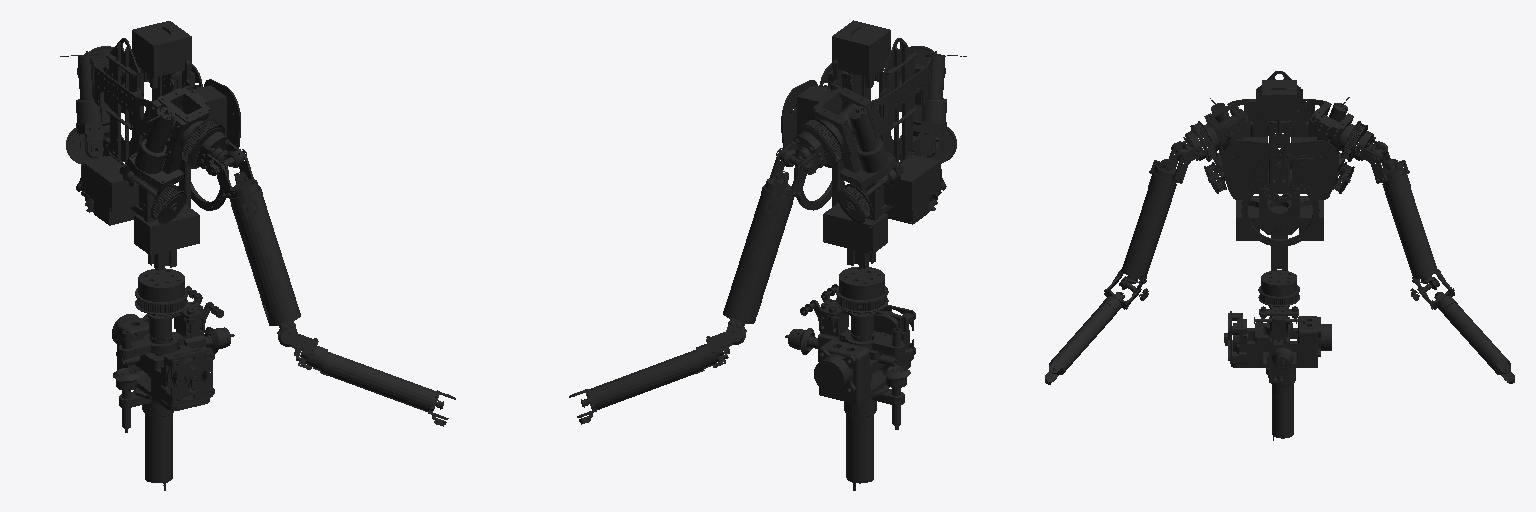
--- Render facts (derived) ---
The picture shows the robot from 3 angles, left to right: view 1: azimuth 30°, elevation 25°; view 2: azimuth 150°, elevation 25°; view 3: azimuth 270°, elevation 25°; orthographic projection.
Robot: ibuki_robot — 21 links, 20 joints (18 revolute, 2 fixed); root link base; default pose: every joint at zero.
Links seen in each view (by area): view 1: upper_body, hip_pitch, armr_yaw, hip_roll, wristr_yaw, hip_yaw, neck_pitch, shoulderr_pitch, armr_roll, armr_pitch, neck_roll; view 2: upper_body, hip_pitch, arml_yaw, hip_roll, wristl_yaw, hip_yaw, neck_pitch, shoulderl_pitch, arml_roll, arml_pitch, neck_roll; view 3: upper_body, hip_pitch, arml_yaw, armr_yaw, hip_roll, wristl_yaw, wristr_yaw, hip_yaw, neck_pitch, arml_roll, armr_roll, arml_pitch (+3 smaller).
Boxes of the visible links, box(x1,y1,x2,y2) form: upper_body: box(60, 26, 240, 270); hip_pitch: box(112, 314, 234, 490); armr_yaw: box(231, 197, 300, 342); hip_roll: box(113, 286, 223, 432); wristr_yaw: box(320, 352, 455, 426); hip_yaw: box(135, 268, 188, 315); neck_pitch: box(132, 21, 191, 61); shoulderr_pitch: box(196, 132, 246, 175); armr_roll: box(217, 154, 262, 205); armr_pitch: box(277, 331, 327, 370); neck_roll: box(132, 46, 191, 77); upper_body: box(781, 26, 966, 268); hip_pitch: box(785, 305, 915, 490); arml_yaw: box(723, 196, 792, 340); hip_roll: box(800, 284, 910, 429); wristl_yaw: box(569, 350, 704, 424); hip_yaw: box(835, 267, 888, 313); neck_pitch: box(832, 20, 890, 61); shoulderl_pitch: box(776, 131, 826, 174); arml_roll: box(761, 153, 806, 204); arml_pitch: box(696, 329, 746, 368); neck_roll: box(832, 46, 890, 77); upper_body: box(1190, 71, 1367, 270); hip_pitch: box(1224, 311, 1331, 440); arml_yaw: box(1382, 178, 1445, 295); armr_yaw: box(1113, 178, 1176, 295); hip_roll: box(1254, 306, 1304, 382); wristl_yaw: box(1444, 303, 1514, 383); wristr_yaw: box(1045, 303, 1114, 384); hip_yaw: box(1258, 270, 1299, 306); neck_pitch: box(1262, 80, 1296, 106); arml_roll: box(1371, 149, 1409, 185); armr_roll: box(1149, 149, 1188, 185); arml_pitch: box(1410, 275, 1457, 313).
Size in the robot's own frame: 0.2787 by 0.6864 by 0.5738 metres.
14 mesh visuals loaded from 19 distinct referenced files (14 binary STL); not drawn: 5 (reference not matched to a file when rendering).

The robot description file, URDF, robot "ibuki_robot":
<?xml version="1.0" ?>
<robot name="ibuki_robot">

<link name="base">
	<inertial>
		<origin xyz="0 0 0" />
		<mass value="10.0"/>
		<inertia ixx="0.12202839"  ixy="-0.0020812626"  ixz="-0.00088143449" iyx="-0.0020812626" iyy="0.038088441" iyz="0.0018251448" izx="-0.00088143449" izy="0.0018251448" izz="0.11340830" />
	</inertial>
	<visual>
		<origin xyz="-0.02 0 -0.17" rpy="0 0 0" />
		<geometry>
			<!--box size="0.5 0.5 0.6"/-->
			<mesh filename="package://ibuki_description/meshes/lower_body.stl"  scale="1 1 1"/>
		</geometry>
		<material name="FlatBlack">
			<color rgba="0.20 0.20 0.20 1.0"/>
		</material>
	</visual>
    <collision>
      <geometry>
      	<box size="0.58 0.47 0.33"/>
<!--         <mesh filename="package://ibuki_description/meshes/lower_body.stl"  scale="1 1 1"/> -->
      </geometry>
    </collision>

	<gazebo reference="body">
  		<material>Gazebo/FlatBlack</material>
	</gazebo>
</link>

<link name="lower_body">
	<inertial>
		<origin xyz="0 0 0" />
		<mass value="10.0"/>
		<inertia ixx="0.12202839"  ixy="-0.0020812626"  ixz="-0.00088143449" iyx="-0.0020812626" iyy="0.038088441" iyz="0.0018251448" izx="-0.00088143449" izy="0.0018251448" izz="0.11340830" />
	</inertial>
	<visual>
		<origin xyz="-0.02 0 -0.25" rpy="0 0 0" />
		<geometry>
			<!--box size="0.5 0.5 0.6"/-->
			<mesh filename="package://ibuki_description/meshes/linear.stl"  scale="1 1 1"/>
		</geometry>
		<material name="Grey">
			<color rgba="0.20 0.20 0.20 1.0"/>
		</material>
	</visual>
    <collision>
      <geometry>
      	<box size="0.26 0.24 0.56"/>
<!--         <mesh filename="package://ibuki_description/meshes/lower_body.stl"  scale="1 1 1"/> -->
      </geometry>
    </collision>
</link>

<link name="hip_pitch">
	<inertial>
		<origin xyz="0 0 0"/>
		<mass value="4.1"/>
		<inertia ixx="0.086855267"  ixy="0.0053020311"  ixz="0.00043636051" iyx="0.0053020311" iyy="0.021192085" iyz="-0.0064855932" izx="0.00043636051" izy="-0.0064855932" izz="0.086845450" />
	</inertial>

	<visual>
		<origin xyz="0 0.0 -0.05" rpy="0 0 0" />
		<geometry>
<!-- 			<box size="0.3 0.3 0.1" /> -->
			<mesh filename="package://ibuki_description/meshes/hip_p.stl"  scale="0.1 0.1 0.1"/>
		</geometry>
		<material name="Grey">
			<color rbga="0.20 0.20 0.20 1.0" />
		</material>
	</visual>
    <collision>
      <origin xyz="-0.05 0 0" rpy="0 0 0" />
      <geometry>
        <box size="0.15 0.15 0.05" />
      </geometry>
    </collision>
</link>

<link name="hip_roll">
	<inertial>
		<origin xyz="0 0 0"/>
		<mass value="4.1"/>
		<inertia ixx="0.086855267"  ixy="0.0053020311"  ixz="0.00043636051" iyx="0.0053020311" iyy="0.021192085" iyz="-0.0064855932" izx="0.00043636051" izy="-0.0064855932" izz="0.086845450" />
	</inertial>

	<visual>
		<origin xyz="0 0.0 -0.015" rpy="0 0 0" />
		<geometry>
			<!-- <box size="0.28 0.28 0.1" /> -->
			<mesh filename="package://ibuki_description/meshes/hip_r.stl"  scale="0.1 0.1 0.1"/>
		</geometry>
		<material name="Grey">
			<color rbga="0.20 0.20 0.20 1.0" />
		</material>
	</visual>
    <collision>
      <origin xyz="-0.05 0 0" rpy="0 0 0" />
      <geometry>
        <box size="0.1 0.1 0.1" />
      </geometry>
    </collision>
</link>

<link name="hip_yaw">
	<inertial>
		<origin xyz="0 0 0"/>
		<mass value="0.5"/>
		<inertia ixx="0.086855267"  ixy="0.0053020311"  ixz="0.00043636051" iyx="0.0053020311" iyy="0.021192085" iyz="-0.0064855932" izx="0.00043636051" izy="-0.0064855932" izz="0.086845450" />
	</inertial>

	<visual>
		<origin xyz="0 0.0 0.05" rpy="0 0 0" />
		<geometry>
<!-- 			<box size="0.2 0.2 0.3" /> -->
			<mesh filename="package://ibuki_description/meshes/hip_y.stl"  scale="0.1 0.1 0.1"/>
		</geometry>
		<material name="Grey">
			<color rbga="0.20 0.20 0.20 1.0" />
		</material>
	</visual>
    <collision>
      <origin xyz="0 0 0" rpy="0 0 0" />
      <geometry>
        <box size="0.05 0.05 0.05" />
      </geometry>
    </collision>
</link>


<link name="upper_body">
	<inertial>
		<origin xyz="0 0 0"/>
		<mass value="0.5"/>
		<inertia ixx="0.086855267"  ixy="0.0053020311"  ixz="0.00043636051" iyx="0.0053020311" iyy="0.021192085" iyz="-0.0064855932" izx="0.00043636051" izy="-0.0064855932" izz="0.086845450" />
	</inertial>

	<visual>
		<origin xyz="0 0.0 0" rpy="0 0 0" />
		<geometry>
<!-- 			<box size="0.2 0.2 0.3" /> -->
			<mesh filename="package://ibuki_description/meshes/upper_body.stl"  scale="0.1 0.1 0.1"/>
		</geometry>
		<material name="Grey">
			<color rbga="0.20 0.20 0.20 1.0" />
		</material>
	</visual>
    <collision>
      <origin xyz="-0.05 0 0.15" rpy="0 0 0" />
      <geometry>
        <box size="0.15 0.15 0.24" />
      </geometry>
    </collision>
</link>


<link name="neck_roll">
	<inertial>
		<origin xyz="0 0 0"/>
		<mass value="0.1"/>
		<inertia ixx="0.086855267"  ixy="0.0053020311"  ixz="0.00043636051" iyx="0.0053020311" iyy="0.021192085" iyz="-0.0064855932" izx="0.00043636051" izy="-0.0064855932" izz="0.086845450" />
	</inertial>

	<visual>
		<origin xyz="0 0.0 0.03" rpy="0 0 0" />
		<geometry>
			<box size="0.05 0.05 0.02" />
		</geometry>
		<material name="Grey">
			<color rbga="0.20 0.20 0.20 1.0" />
		</material>
	</visual>
    <collision>
      <origin xyz="-0.05 0 0" rpy="0 0 0" />
      <geometry>
        <box size="0.1 0.1 0.1" />
      </geometry>
    </collision>
</link>

<link name="neck_pitch">
	<inertial>
		<origin xyz="0 0 0"/>
		<mass value="0.1"/>
		<inertia ixx="0.086855267"  ixy="0.0053020311"  ixz="0.00043636051" iyx="0.0053020311" iyy="0.021192085" iyz="-0.0064855932" izx="0.00043636051" izy="-0.0064855932" izz="0.086845450" />
	</inertial>

	<visual>
		<origin xyz="0 0.0 0.05" rpy="0 0 0" />
		<geometry>
			<box size="0.05 0.05 0.02" />			
		</geometry>
		<material name="Grey">
			<color rbga="0.20 0.20 0.20 1.0" />
		</material>
	</visual>
    <collision>
      <origin xyz="-0.05 0 0" rpy="0 0 0" />
      <geometry>
        <box size="0.1 0.1 0.1" />
      </geometry>
    </collision>
</link>

<link name="head">
	<inertial>
		<origin xyz="0 0 0.2"/>
		<mass value="0.1"/>
		<inertia ixx="0.086855267"  ixy="0.0053020311"  ixz="0.00043636051" iyx="0.0053020311" iyy="0.021192085" iyz="-0.0064855932" izx="0.00043636051" izy="-0.0064855932" izz="0.086845450" />
	</inertial>

	<visual>
		<origin xyz="0 0.0 0" rpy="0 0 0" />
		<geometry>
			<!-- <box size="0.15 0.15 0.15" /> -->
			<mesh filename="package://ibuki_description/meshes/head.dae"  scale="0.1 0.1 0.1"/>
		</geometry>
<!-- 		<material name="Grey">
			<color rbga="0.20 0.20 0.20 1.0" />
		</material> -->
	</visual>
    <collision>
      <origin xyz="-0.05 0 0" rpy="0 0 0" />
      <geometry>
        <box size="0.15 0.15 0.15" />
      </geometry>
    </collision>
</link>

<link name="shoulderl_pitch">
	<inertial>
		<origin xyz="0 0 0"/>
		<mass value="0.1"/>
		<inertia ixx="0.086855267"  ixy="0.0053020311"  ixz="0.00043636051" iyx="0.0053020311" iyy="0.021192085" iyz="-0.0064855932" izx="0.00043636051" izy="-0.0064855932" izz="0.086845450" />
	</inertial>

	<visual>
		<origin xyz="0 0.0 0.0" rpy="0 0 0" />
		<geometry>
			<!-- <box size="0.25 0.1 0.25" /> -->
			<mesh filename="package://ibuki_description/meshes/shoulderl_pitch_flat.stl"  scale="0.1 0.1 0.1"/>
		</geometry>
		<material name="Grey">
			<color rbga="0.20 0.20 0.20 1.0" />
		</material>
	</visual>
    <collision>
      <origin xyz="0 -0.05 0" rpy="0 0 0" />
      <geometry>
        <box size="0.5 0.5 0.5" />
      </geometry>
    </collision>
</link>

<link name="shoulderr_pitch">
	<inertial>
		<origin xyz="0 0 0"/>
		<mass value="0.1"/>
		<inertia ixx="0.086855267"  ixy="0.0053020311"  ixz="0.00043636051" iyx="0.0053020311" iyy="0.021192085" iyz="-0.0064855932" izx="0.00043636051" izy="-0.0064855932" izz="0.086845450" />
	</inertial>

	<visual>
		<origin xyz="0 0.0 0.0" rpy="0 0 0" />
		<geometry>
<!-- 			<box size="0.25 0.1 0.25" /> -->
			<mesh filename="package://ibuki_description/meshes/shoulderr_pitch_flat.stl"  scale="0.1 0.1 0.1"/>
		</geometry>
		<material name="Grey">
			<color rbga="0.20 0.20 0.20 1.0" />
		</material>
	</visual>
    <collision>
      <origin xyz="0 -0.05 0" rpy="0 0 0" />
      <geometry>
        <box size="0.05 0.05 0.05" />
      </geometry>
    </collision>
</link>

<link name="arml_roll">
	<inertial>
		<origin xyz="0 0 0"/>
		<mass value="0.1"/>
		<inertia ixx="0.086855267"  ixy="0.0053020311"  ixz="0.00043636051" iyx="0.0053020311" iyy="0.021192085" iyz="-0.0064855932" izx="0.00043636051" izy="-0.0064855932" izz="0.086845450" />
	</inertial>

	<visual>
		<origin xyz="0 0.0 0.0" rpy="0 0 0" />
		<geometry>
			<!-- <box size="0.2 0.2 0.1" /> -->
			<mesh filename="package://ibuki_description/meshes/arml_roll_flat.stl"  scale="0.1 0.1 0.1"/>
		</geometry>
		<material name="Grey">
			<color rbga="0.20 0.20 0.20 1.0" />
		</material>
	</visual>
    <collision>
      <origin xyz="0 -0.05 0" rpy="0 0 0" />
      <geometry>
        <box size="0.05 0.05 0.05" />
      </geometry>
    </collision>
</link>

<link name="armr_roll">
	<inertial>
		<origin xyz="0 0 0"/>
		<mass value="0.1"/>
		<inertia ixx="0.086855267"  ixy="0.0053020311"  ixz="0.00043636051" iyx="0.0053020311" iyy="0.021192085" iyz="-0.0064855932" izx="0.00043636051" izy="-0.0064855932" izz="0.086845450" />
	</inertial>

	<visual>
		<origin xyz="0 0.0 0.0" rpy="0 0 0" />
		<geometry>
<!-- 			<box size="0.2 0.2 0.1" /> -->
			<mesh filename="package://ibuki_description/meshes/armr_roll_flat.stl"  scale="0.1 0.1 0.1"/>
		</geometry>
		<material name="Grey">
			<color rbga="0.20 0.20 0.20 1.0" />
		</material>
	</visual>
    <collision>
      <origin xyz="0 -0.05 0" rpy="0 0 0" />
      <geometry>
        <box size="0.05 0.05 0.05" />
      </geometry>
    </collision>
</link>

<link name="arml_yaw">
	<inertial>
		<origin xyz="0 0 0"/>
		<mass value="0.1"/>
		<inertia ixx="0.086855267"  ixy="0.0053020311"  ixz="0.00043636051" iyx="0.0053020311" iyy="0.021192085" iyz="-0.0064855932" izx="0.00043636051" izy="-0.0064855932" izz="0.086845450" />
	</inertial>

	<visual>
		<origin xyz="0 0.0 0.0" rpy="0 0 0" />
		<geometry>
			<!-- <box size="0.01 0.01 0.4" /> -->
			<mesh filename="package://ibuki_description/meshes/arml_yaw_flat.stl"  scale="0.1 0.1 0.1"/>
		</geometry>
		<material name="Grey">
			<color rbga="0.20 0.20 0.20 1.0" />
		</material>
	</visual>
    <collision>
      <origin xyz="-0.05 0 0" rpy="0 0 0" />
      <geometry>
        <box size="0.1 0.1 0.25" />
      </geometry>
    </collision>
</link>

<link name="armr_yaw">
	<inertial>
		<origin xyz="0 0 0"/>
		<mass value="0.1"/>
		<inertia ixx="0.086855267"  ixy="0.0053020311"  ixz="0.00043636051" iyx="0.0053020311" iyy="0.021192085" iyz="-0.0064855932" izx="0.00043636051" izy="-0.0064855932" izz="0.086845450" />
	</inertial>

	<visual>
		<origin xyz="0 0.0 0.0" rpy="0 0 0" />
		<geometry>
			<!-- <box size="0.01 0.01 0.4" /> -->
			<mesh filename="package://ibuki_description/meshes/armr_yaw_flat.stl"  scale="0.1 0.1 0.1"/>
		</geometry>
		<material name="Grey">
			<color rbga="0.20 0.20 0.20 1.0" />
		</material>
	</visual>
    <collision>
      <origin xyz="-0.05 0 0" rpy="0 0 0" />
      <geometry>
        <box size="0.1 0.1 0.25" />
      </geometry>
    </collision>
</link>

<link name="arml_pitch">
	<inertial>
		<origin xyz="0 0 0"/>
		<mass value="0.1"/>
		<inertia ixx="0.086855267"  ixy="0.0053020311"  ixz="0.00043636051" iyx="0.0053020311" iyy="0.021192085" iyz="-0.0064855932" izx="0.00043636051" izy="-0.0064855932" izz="0.086845450" />
	</inertial>

	<visual>
		<origin xyz="0 0.0 0.0" rpy="0 0 0" />
		<geometry>
			<!-- <box size="0.1 0.1 0.1" /> -->
			<mesh filename="package://ibuki_description/meshes/arml_pitch_flat.stl"  scale="0.1 0.1 0.1"/>
		</geometry>
		<material name="Grey">
			<color rbga="0.20 0.20 0.20 1.0" />
		</material>
	</visual>
    <collision>
      <origin xyz="0 0 0" rpy="0 0 0" />
      <geometry>
        <box size="0.1 0.1 0.1" />
      </geometry>
    </collision>
</link>

<link name="armr_pitch">
	<inertial>
		<origin xyz="0 0 0"/>
		<mass value="0.1"/>
		<inertia ixx="0.086855267"  ixy="0.0053020311"  ixz="0.00043636051" iyx="0.0053020311" iyy="0.021192085" iyz="-0.0064855932" izx="0.00043636051" izy="-0.0064855932" izz="0.086845450" />
	</inertial>

	<visual>
		<origin xyz="0 0.0 0.0" rpy="0 0 0" />
		<geometry>
			<!-- <box size="0.1 0.1 0.1" /> -->
			<mesh filename="package://ibuki_description/meshes/armr_pitch_flat.stl"  scale="0.1 0.1 0.1"/>
		</geometry>
		<material name="Grey">
			<color rbga="0.20 0.20 0.20 1.0" />
		</material>
	</visual>
    <collision>
      <origin xyz="0 0 0" rpy="0 0 0" />
      <geometry>
        <box size="0.1 0.1 0.1" />
      </geometry>
    </collision>
</link>

<link name="wristl_yaw">
	<inertial>
		<origin xyz="0 0 0"/>
		<mass value="0.1"/>
		<inertia ixx="0.086855267"  ixy="0.0053020311"  ixz="0.00043636051" iyx="0.0053020311" iyy="0.021192085" iyz="-0.0064855932" izx="0.00043636051" izy="-0.0064855932" izz="0.086845450" />
	</inertial>

	<visual>
		<origin xyz="0 0.0 0.0" rpy="0 0 0" />
		<geometry>
			<!-- <box size="0.1 0.1 0.3" /> -->
			<mesh filename="package://ibuki_description/meshes/wristl_yaw_flat.stl"  scale="0.1 0.1 0.1"/>
		</geometry>
		<material name="Grey">
			<color rbga="0.20 0.20 0.20 1.0" />
		</material>
	</visual>
    <collision>
      <origin xyz="-0.0 0 0" rpy="0 0 0" />
      <geometry>
        <box size="0.1 0.1 0.25" />
      </geometry>
    </collision>
</link>

<link name="wristr_yaw">
	<inertial>
		<origin xyz="0 0 0"/>
		<mass value="0.1"/>
		<inertia ixx="0.086855267"  ixy="0.0053020311"  ixz="0.00043636051" iyx="0.0053020311" iyy="0.021192085" iyz="-0.0064855932" izx="0.00043636051" izy="-0.0064855932" izz="0.086845450" />
	</inertial>

	<visual>
		<origin xyz="0 0.0 0.0" rpy="0 0 0" />
		<geometry>
			<!-- <box size="0.01 0.01 0.3" /> -->
			<mesh filename="package://ibuki_description/meshes/wristr_yaw_flat.stl"  scale="0.1 0.1 0.1"/>
		</geometry>
		<material name="Grey">
			<color rbga="0.20 0.20 0.20 1.0" />
		</material>
	</visual>
    <collision>
      <origin xyz="-0.0 0 0" rpy="0 0 0" />
      <geometry>
        <box size="0.1 0.1 0.25" />
      </geometry>
    </collision>
</link>

<link name="wristl_roll">
	<inertial>
		<origin xyz="0 0 0"/>
		<mass value="0.1"/>
		<inertia ixx="0.086855267"  ixy="0.0053020311"  ixz="0.00043636051" iyx="0.0053020311" iyy="0.021192085" iyz="-0.0064855932" izx="0.00043636051" izy="-0.0064855932" izz="0.086845450" />
	</inertial>

	<visual>
		<origin xyz="0 0.0 0.0" rpy="0 0 0" />
		<geometry>
			<!-- <box size="0.15 0.05 0.2" /> -->
			<mesh filename="package://ibuki_description/meshes/handl_flat.stl"  scale="0.1 0.1 0.1"/>
		</geometry>
		<material name="Grey">
			<color rbga="0.20 0.20 0.20 1.0" />
		</material>
	</visual>
    <collision>
      <origin xyz="-0.05 0 0" rpy="0 0 0" />
      <geometry>
         <box size="0.1 0.05 0.1" />
      </geometry>
    </collision>
</link>

<link name="wristr_roll">
	<inertial>
		<origin xyz="0 0 0"/>
		<mass value="0.1"/>
		<inertia ixx="0.086855267"  ixy="0.0053020311"  ixz="0.00043636051" iyx="0.0053020311" iyy="0.021192085" iyz="-0.0064855932" izx="0.00043636051" izy="-0.0064855932" izz="0.086845450" />
	</inertial>

	<visual>
		<origin xyz="0 0.0 0.0" rpy="0 0 0" />
		<geometry>
<!-- 			<box size="0.15 0.05 0.2" /> -->
			<mesh filename="package://ibuki_description/meshes/handr_flat.stl"  scale="0.1 0.1 0.1"/>
		</geometry>
		<material name="Grey">
			<color rbga="0.20 0.20 0.20 1.0" />
		</material>
	</visual>
    <collision>
      <origin xyz="-0.05 0 0" rpy="0 0 0" />
      <geometry>
        <box size="0.1 0.05 0.1" />
      </geometry>
    </collision>
</link>
	<joint name="linear" type="fixed">
		<parent link="base"/>
		<child link="lower_body"/>
		<origin xyz="0 0 0.33" rpy="0 0 0" />
		<axis xyz="0 1 0"/>
		<limit effort="11.8" velocity="5.6548668" lower="-2.6179939" upper="2.6179939" />
	</joint>

	<joint name="hip_p" type="revolute">
		<parent link="lower_body"/>
		<child link="hip_pitch"/>
		<origin xyz="-0.02 0 0.18" rpy="0 0 0" />
		<axis xyz="0 1 0"/>
		<limit effort="11.8" velocity="5.6548668" lower="-2.6179939" upper="2.6179939" />
	</joint>

	<joint name="hip_r" type="revolute">
		<parent link="hip_pitch"/>
		<child link="hip_roll"/>
		<origin xyz="0 0 0" rpy="0 0 0" />
		<axis xyz="1 0 0"/>
		<limit effort="11.8" velocity="5.6548668" lower="-2.6179939" upper="2.6179939" />
	</joint>	

	<joint name="hip_y" type="revolute">
		<parent link="hip_roll"/>
		<child link="hip_yaw"/>
		<origin xyz="0 0 0" rpy="0 0 0" />
		<axis xyz="0 0 1"/>
		<limit effort="11.8" velocity="5.6548668" lower="-2.6179939" upper="2.6179939" />
	</joint>	

	<joint name="hip_ry" type="fixed">
		<parent link="hip_yaw"/>
		<child link="upper_body"/>
		<origin xyz="0 0 0.1" rpy="0 0 0" />
		<axis xyz="0 0 1"/>
		<limit effort="11.8" velocity="5.6548668" lower="-2.6179939" upper="2.6179939" />
	</joint>	

	<joint name="neck_r" type="revolute">
		<parent link="upper_body"/>
		<child link="neck_roll"/>
		<origin xyz="0 0 0.23" rpy="0 0 0" />
		<axis xyz="1 0 0"/>
		<limit effort="2.8" velocity="5.6548668" lower="-2.6179939" upper="2.6179939" />
	</joint>	

	<joint name="neck_p" type="revolute">
		<parent link="neck_roll"/>
		<child link="neck_pitch"/>
		<origin xyz="0 0 0" rpy="0 0 0" />
		<axis xyz="0 1 0"/>
		<limit effort="2.8" velocity="5.6548668" lower="-2.6179939" upper="2.6179939" />
	</joint>	

	<joint name="neck_y" type="revolute">
		<parent link="neck_pitch"/>
		<child link="head"/>
		<origin xyz="0 0 0.05" rpy="0 0 0" />
		<axis xyz="0 0 1"/>
		<limit effort="2.8" velocity="5.6548668" lower="-2.6179939" upper="2.6179939" />
	</joint>	

	<joint name="shoulderl_p" type="revolute">
		<parent link="upper_body"/>
		<child link="shoulderl_pitch"/>
		<origin xyz="-0.005 0.12 0.194" rpy="0 0 0" />
		<axis xyz="0.5 1.4 -0.5"/>
		<limit effort="2.8" velocity="5.6548668" lower="-2.6179939" upper="2.6179939" />
	</joint>	

	<joint name="shoulderr_p" type="revolute">
		<parent link="upper_body"/>
		<child link="shoulderr_pitch"/>
		<origin xyz="-0.005 -0.12 0.194" rpy="0 0 0" />
		<axis xyz="-0.5 1.4 0.5"/>
		<limit effort="2.8" velocity="5.6548668" lower="-2.6179939" upper="2.6179939" />
	</joint>	

	<joint name="arml_r" type="revolute">
		<parent link="shoulderl_pitch"/>
		<child link="arml_roll"/>
		<origin xyz="0.012 0.0241 -0.0155" rpy="0 0 0" />
		<axis xyz="-1 0.66 0.66"/>
		<limit effort="2.8" velocity="5.6548668" lower="-2.6179939" upper="2.6179939" />
	</joint>	

	<joint name="armr_r" type="revolute">
		<parent link="shoulderr_pitch"/>
		<child link="armr_roll"/>
		<origin xyz="0.012 -0.0241 -0.0155" rpy="0 0 0" />
		<axis xyz="1 0.66 -0.66"/>
		<limit effort="2.8" velocity="5.6548668" lower="-2.6179939" upper="2.6179939" />
	</joint>	

	<joint name="arml_y" type="revolute">
		<parent link="arml_roll"/>
		<child link="arml_yaw"/>
		<origin xyz="0.007 0.023 -0.03" rpy="0 0 0" />
		<axis xyz="0.125 0.288 -1"/>
		<limit effort="2.8" velocity="5.6548668" lower="-2.6179939" upper="2.6179939" />
	</joint>	

	<joint name="armr_y" type="revolute">
		<parent link="armr_roll"/>
		<child link="armr_yaw"/>
		<origin xyz="0.007 -0.023 -0.03" rpy="0 0 0" />
		<axis xyz="-0.125 0.288 1"/>
		<limit effort="2.8" velocity="5.6548668" lower="-2.6179939" upper="2.6179939" />
	</joint>	

	<joint name="arml_p" type="revolute">
		<parent link="arml_yaw"/>
		<child link="arml_pitch"/>
		<origin xyz="0.025 0.05 -0.16" rpy="0 0 0" />
		<axis xyz="-0.4 1 0.6"/>
		<limit effort="2.8" velocity="5.6548668" lower="-2.6179939" upper="2.6179939" />
	</joint>

	<joint name="armr_p" type="revolute">
		<parent link="armr_yaw"/>
		<child link="armr_pitch"/>
		<origin xyz="0.025 -0.05 -0.16" rpy="0 0 0" />
		<axis xyz="0.4 1 -0.6"/>
		<limit effort="2.8" velocity="5.6548668" lower="-2.6179939" upper="2.6179939" />
	</joint>

	<joint name="wristl_y" type="revolute">
		<parent link="arml_pitch"/>
		<child link="wristl_yaw"/>
		<origin xyz="0.028 0.0315 -0.0245" rpy="0 0 0" />
		<axis xyz="2.2 1.6 -1"/>
		<limit effort="2.8" velocity="5.6548668" lower="-2.6179939" upper="2.6179939" />
	</joint>

	<joint name="wristr_y" type="revolute">
		<parent link="armr_pitch"/>
		<child link="wristr_yaw"/>
		<origin xyz="0.028 -0.0315 -0.0245" rpy="0 0 0.01" />
		<axis xyz="-2.2 1.6 1"/>
		<limit effort="2.8" velocity="5.6548668" lower="-2.6179939" upper="2.6179939" />
	</joint>

	<joint name="wristl_r" type="revolute">
		<parent link="wristl_yaw"/>
		<child link="wristl_roll"/>
		<origin xyz="0.11 0.085 -0.045" rpy="0 0 0" />
		<axis xyz="4.89 4.21 9.50"/>
		<limit effort="2.8" velocity="5.6548668" lower="-2.6179939" upper="2.6179939" />
	</joint>

	<joint name="wristr_r" type="revolute">
		<parent link="wristr_yaw"/>
		<child link="wristr_roll"/>
		<origin xyz="0.11 -0.085 -0.045" rpy="0 0 0" />
		<axis xyz="-4.89 4.21 -9.50"/>
		<limit effort="2.8" velocity="5.6548668" lower="-2.6179939" upper="2.6179939" />
	</joint>

  <gazebo>
    <plugin filename="libgazebo_ros_control.so" name="gazebo_ros_control">
      <robotNamespace>/ibuki</robotNamespace>
    </plugin>
  </gazebo>

   <transmission name="t_hip_p">
    <type>transmission_interface/SimpleTransmission</type>
    <joint name="hip_p">
        <hardwareInterface>EffortJointInterface</hardwareInterface>
    </joint>
    <actuator name="m_hip_p">
      <hardwareInterface>EffortJointInterface</hardwareInterface>
      <mechanicalReduction>1</mechanicalReduction>
    </actuator>
  </transmission>

   <transmission name="t_hip_r">
    <type>transmission_interface/SimpleTransmission</type>
    <joint name="hip_r">
        <hardwareInterface>EffortJointInterface</hardwareInterface>
    </joint>
    <actuator name="m_hip_r">
      <hardwareInterface>EffortJointInterface</hardwareInterface>
      <mechanicalReduction>1</mechanicalReduction>
    </actuator>
  </transmission>

   <transmission name="t_hip_y">
    <type>transmission_interface/SimpleTransmission</type>
    <joint name="hip_y">
        <hardwareInterface>EffortJointInterface</hardwareInterface>
    </joint>
    <actuator name="m_hip_y">
      <hardwareInterface>EffortJointInterface</hardwareInterface>
      <mechanicalReduction>1</mechanicalReduction>
    </actuator>
  </transmission>

   <transmission name="t_neck_r">
    <type>transmission_interface/SimpleTransmission</type>
    <joint name="neck_r">
        <hardwareInterface>EffortJointInterface</hardwareInterface>
    </joint>
    <actuator name="m_neck_r">
      <hardwareInterface>EffortJointInterface</hardwareInterface>
      <mechanicalReduction>1</mechanicalReduction>
    </actuator>
  </transmission>

   <transmission name="t_neck_p">
    <type>transmission_interface/SimpleTransmission</type>
    <joint name="neck_p">
        <hardwareInterface>EffortJointInterface</hardwareInterface>
    </joint>
    <actuator name="m_neck_p">
      <hardwareInterface>EffortJointInterface</hardwareInterface>
      <mechanicalReduction>1</mechanicalReduction>
    </actuator>
  </transmission>

   <transmission name="t_neck_y">
    <type>transmission_interface/SimpleTransmission</type>
    <joint name="neck_y">
        <hardwareInterface>EffortJointInterface</hardwareInterface>
    </joint>
    <actuator name="m_neck_y">
      <hardwareInterface>EffortJointInterface</hardwareInterface>
      <mechanicalReduction>1</mechanicalReduction>
    </actuator>
  </transmission>

   <transmission name="t_shoulderl_p">
    <type>transmission_interface/SimpleTransmission</type>
    <joint name="shoulderl_p">
        <hardwareInterface>EffortJointInterface</hardwareInterface>
    </joint>
    <actuator name="m_shoulderl_p">
      <hardwareInterface>EffortJointInterface</hardwareInterface>
      <mechanicalReduction>1</mechanicalReduction>
    </actuator>
  </transmission>

   <transmission name="t_shoulderr_p">
    <type>transmission_interface/SimpleTransmission</type>
    <joint name="shoulderr_p">
        <hardwareInterface>EffortJointInterface</hardwareInterface>
    </joint>
    <actuator name="m_shoulderr_p">
      <hardwareInterface>EffortJointInterface</hardwareInterface>
      <mechanicalReduction>1</mechanicalReduction>
    </actuator>
  </transmission>

   <transmission name="t_arml_r">
    <type>transmission_interface/SimpleTransmission</type>
    <joint name="arml_r">
        <hardwareInterface>EffortJointInterface</hardwareInterface>
    </joint>
    <actuator name="m_arml_r">
      <hardwareInterface>EffortJointInterface</hardwareInterface>
      <mechanicalReduction>1</mechanicalReduction>
    </actuator>
  </transmission>

   <transmission name="t_armr_r">
    <type>transmission_interface/SimpleTransmission</type>
    <joint name="armr_r">
        <hardwareInterface>EffortJointInterface</hardwareInterface>
    </joint>
    <actuator name="m_armr_r">
      <hardwareInterface>EffortJointInterface</hardwareInterface>
      <mechanicalReduction>1</mechanicalReduction>
    </actuator>
  </transmission>

   <transmission name="t_arml_y">
    <type>transmission_interface/SimpleTransmission</type>
    <joint name="arml_y">
        <hardwareInterface>EffortJointInterface</hardwareInterface>
    </joint>
    <actuator name="m_arml_y">
      <hardwareInterface>EffortJointInterface</hardwareInterface>
      <mechanicalReduction>1</mechanicalReduction>
    </actuator>
  </transmission>

   <transmission name="t_armr_y">
    <type>transmission_interface/SimpleTransmission</type>
    <joint name="armr_y">
        <hardwareInterface>EffortJointInterface</hardwareInterface>
    </joint>
    <actuator name="m_armr_y">
      <hardwareInterface>EffortJointInterface</hardwareInterface>
      <mechanicalReduction>1</mechanicalReduction>
    </actuator>
  </transmission>

   <transmission name="t_arml_p">
    <type>transmission_interface/SimpleTransmission</type>
    <joint name="arml_p">
        <hardwareInterface>EffortJointInterface</hardwareInterface>
    </joint>
    <actuator name="m_arml_p">
      <hardwareInterface>EffortJointInterface</hardwareInterface>
      <mechanicalReduction>1</mechanicalReduction>
    </actuator>
  </transmission>

   <transmission name="t_armr_p">
    <type>transmission_interface/SimpleTransmission</type>
    <joint name="armr_p">
        <hardwareInterface>EffortJointInterface</hardwareInterface>
    </joint>
    <actuator name="m_armr_p">
      <hardwareInterface>EffortJointInterface</hardwareInterface>
      <mechanicalReduction>1</mechanicalReduction>
    </actuator>
  </transmission>

   <transmission name="t_wristl_y">
    <type>transmission_interface/SimpleTransmission</type>
    <joint name="wristl_y">
        <hardwareInterface>EffortJointInterface</hardwareInterface>
    </joint>
    <actuator name="m_wristl_y">
      <hardwareInterface>EffortJointInterface</hardwareInterface>
      <mechanicalReduction>1</mechanicalReduction>
    </actuator>
  </transmission>

   <transmission name="t_wristr_y">
    <type>transmission_interface/SimpleTransmission</type>
    <joint name="wristr_y">
        <hardwareInterface>EffortJointInterface</hardwareInterface>
    </joint>
    <actuator name="m_wristr_y">
      <hardwareInterface>EffortJointInterface</hardwareInterface>
      <mechanicalReduction>1</mechanicalReduction>
    </actuator>
  </transmission>

   <transmission name="t_wristl_r">
    <type>transmission_interface/SimpleTransmission</type>
    <joint name="wristl_r">
        <hardwareInterface>EffortJointInterface</hardwareInterface>
    </joint>
    <actuator name="m_wristl_r">
      <hardwareInterface>EffortJointInterface</hardwareInterface>
      <mechanicalReduction>1</mechanicalReduction>
    </actuator>
  </transmission>

   <transmission name="t_wristr_r">
    <type>transmission_interface/SimpleTransmission</type>
    <joint name="wristr_r">
        <hardwareInterface>EffortJointInterface</hardwareInterface>
    </joint>
    <actuator name="m_wristr_r">
      <hardwareInterface>EffortJointInterface</hardwareInterface>
      <mechanicalReduction>1</mechanicalReduction>
    </actuator>
  </transmission>

</robot>
